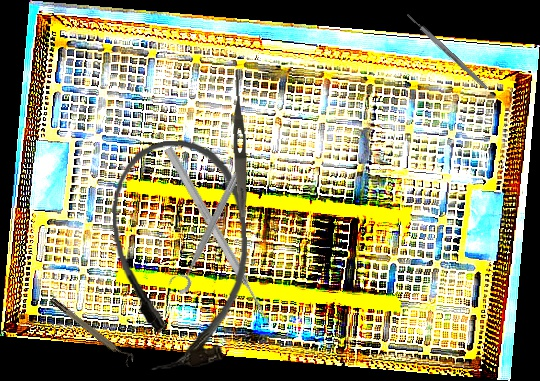Cannula: (107, 136, 256, 372)
Dressing Forceps: (229, 69, 250, 218)
Fixation Ring: (165, 159, 248, 297), (48, 292, 137, 368)
Pusher: (162, 145, 275, 328)
Scalpel Handle: (405, 12, 489, 91)
